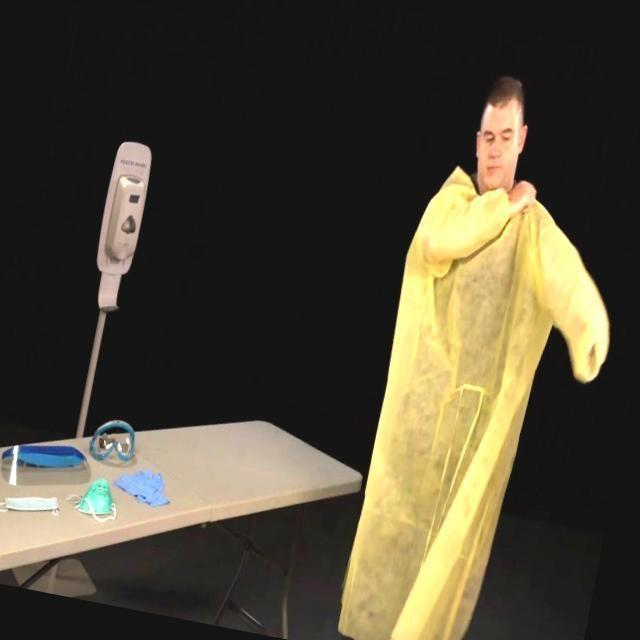no_apron: (500, 177, 542, 207)
no_hairnet: (466, 142, 515, 180)
